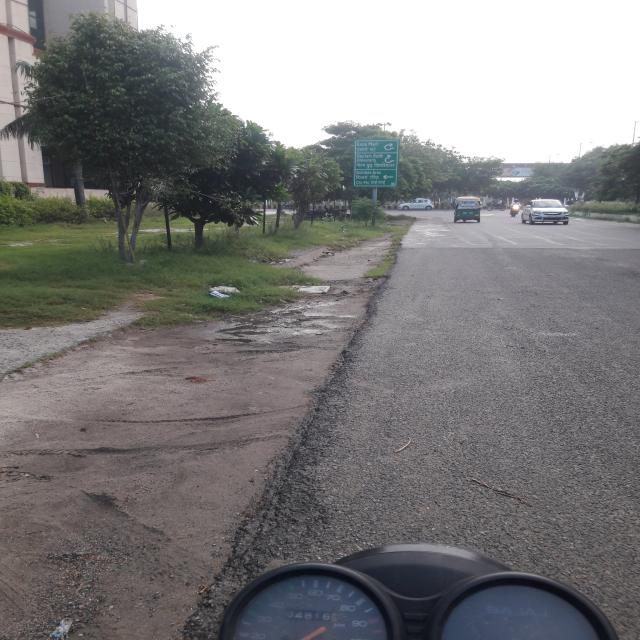GENERAL: (352, 140, 400, 188)
